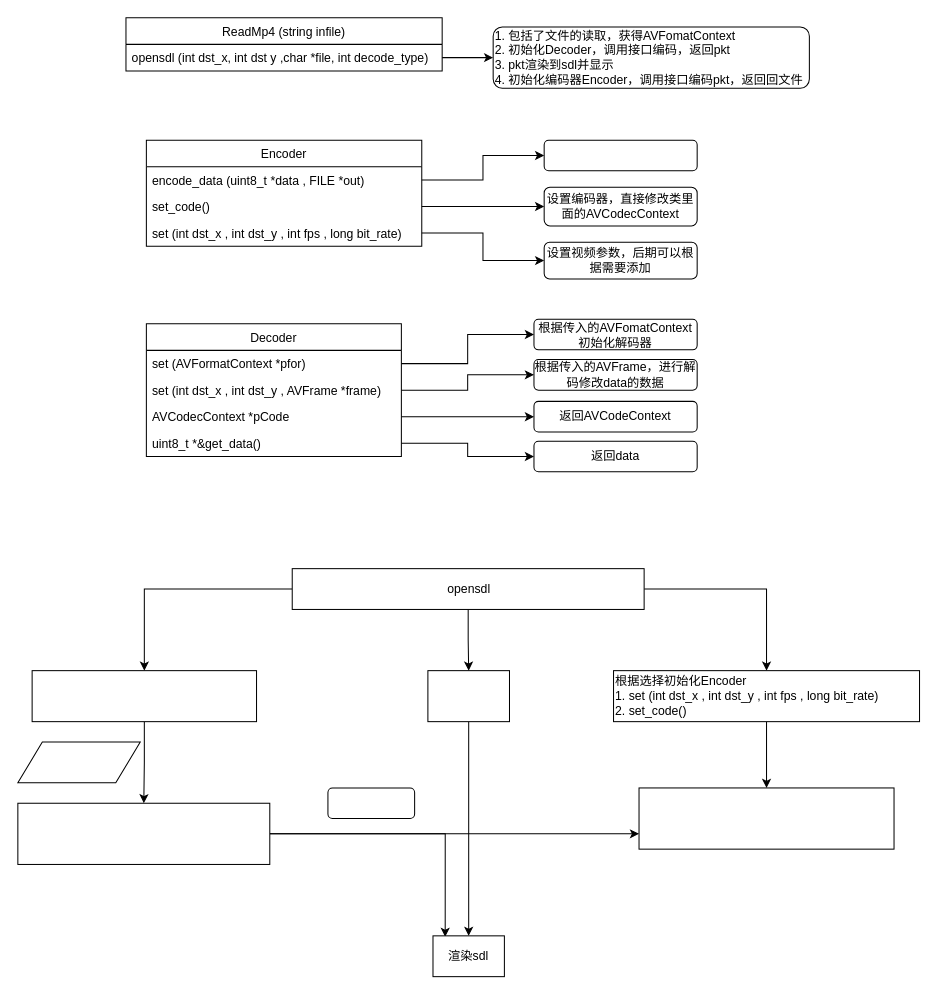
Some shapes in this 937 by 995 pixel diagram are drawn without their labels. The centre of each missing label's shape, as x and y in pixels:
av_read_frame(): (x=78, y=762)
uint8_t * data: (x=371, y=803)
初始化Decoder 1. set (AVFormatContext *pfor) 2. AVCodecContext *pCode: (x=144, y=696)
初始化SDL: (x=468, y=696)
对输入的数据进行编码: (x=620, y=155)
编码packet，并保存到out文件中 encode_data (uint8_t *data , FILE *out): (x=766, y=818)
解码frame set (int dst_x , int dst_y , AVFrame *frame): (x=143, y=833)
